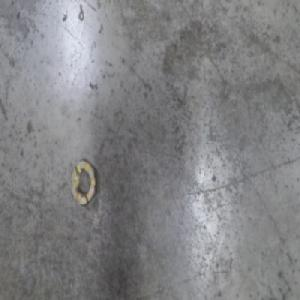Nut: (69, 159, 98, 207)
